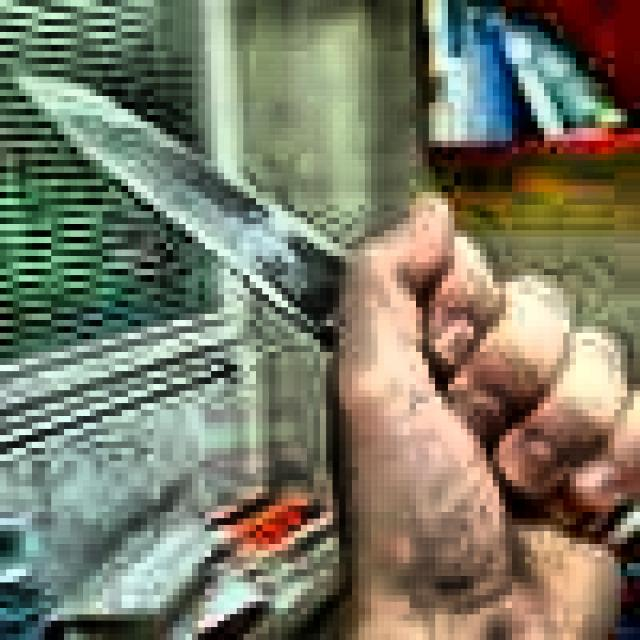knife: (27, 82, 634, 552)
